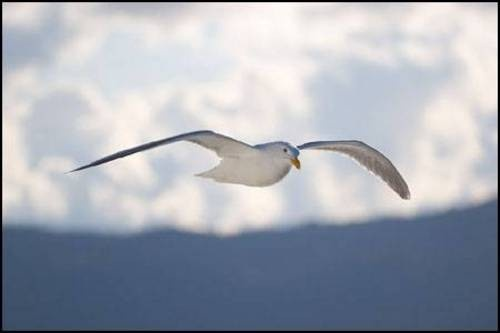bird: (63, 129, 412, 200)
